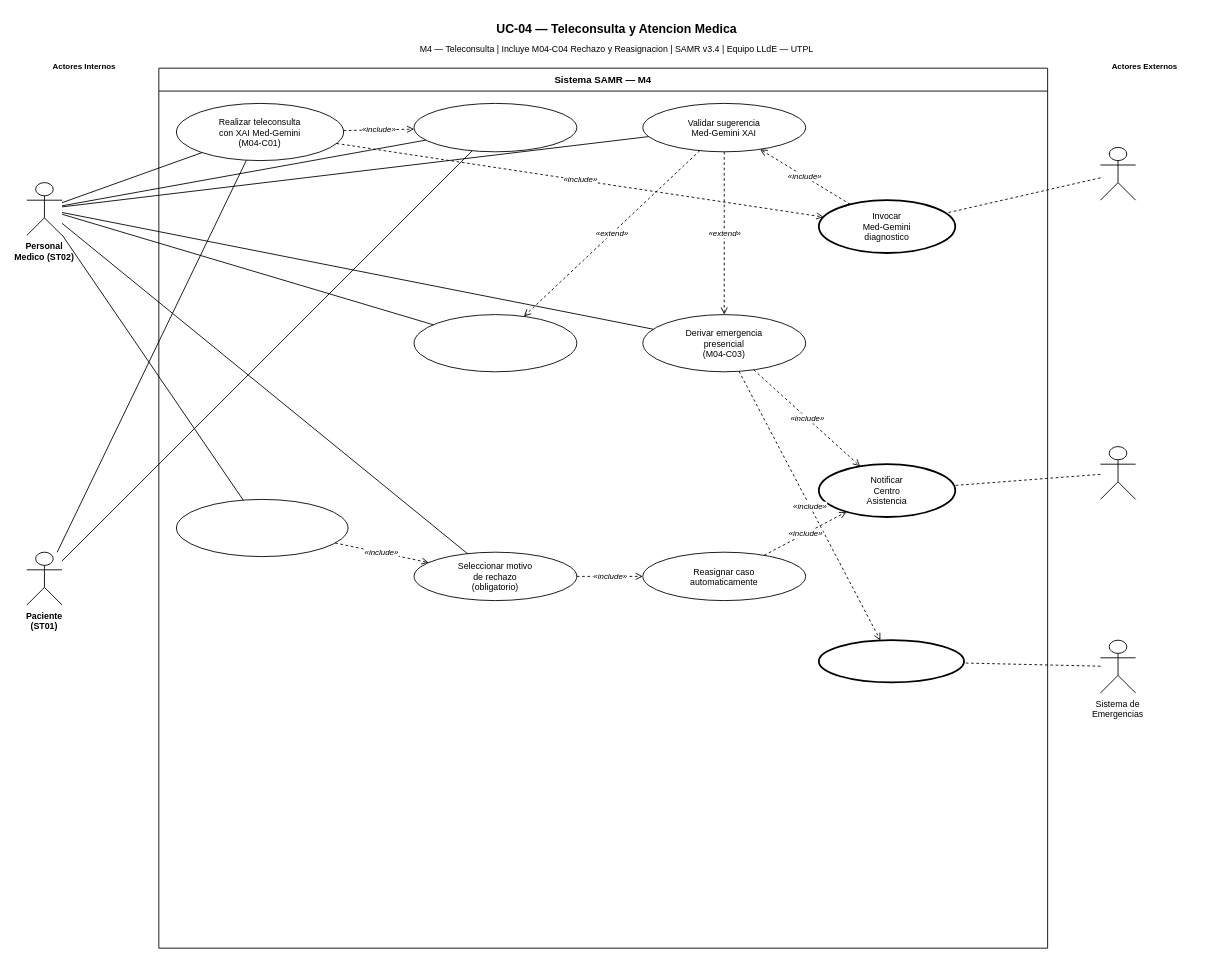
Some shapes in this 1221 by 964 pixel diagram are drawn without their labels. The box of each missing label's shape, as (x1, y1, x2, y2) in pixels:
Centro Asistencia (ST04): (1100, 446, 1136, 499)
Consultar historial clinico completo: (413, 103, 577, 152)
Emitir receta digital firmada (M04-C02): (413, 314, 577, 372)
Med-Gemini (Sistema): (1100, 147, 1136, 200)
Notificar Sistema Emergencias: (818, 639, 964, 683)
Rechazar y reasignar solicitud emergencia (M04-C04): (176, 499, 348, 557)
